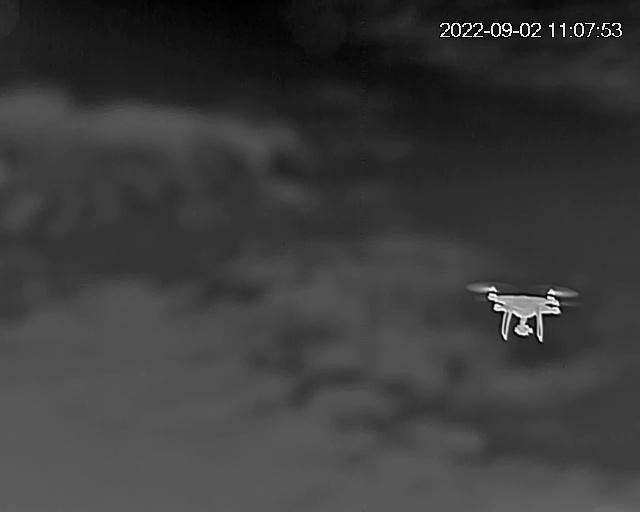DJI-Phantom: (471, 279, 576, 343)
